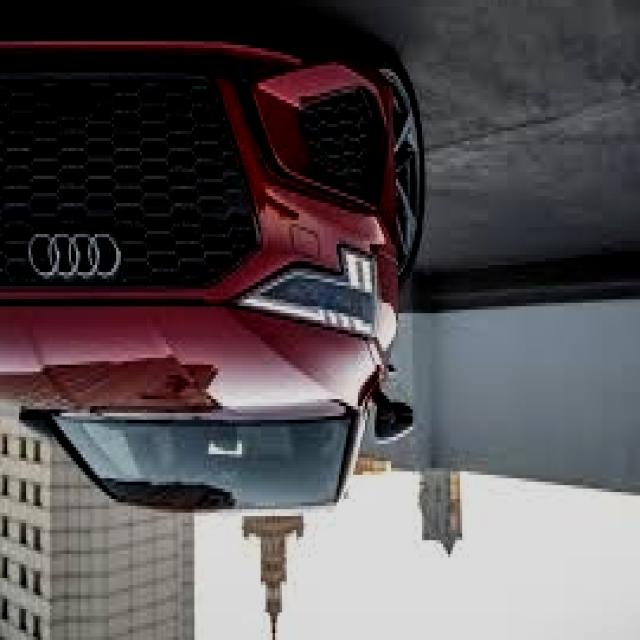maroon: (0, 0, 446, 542)
